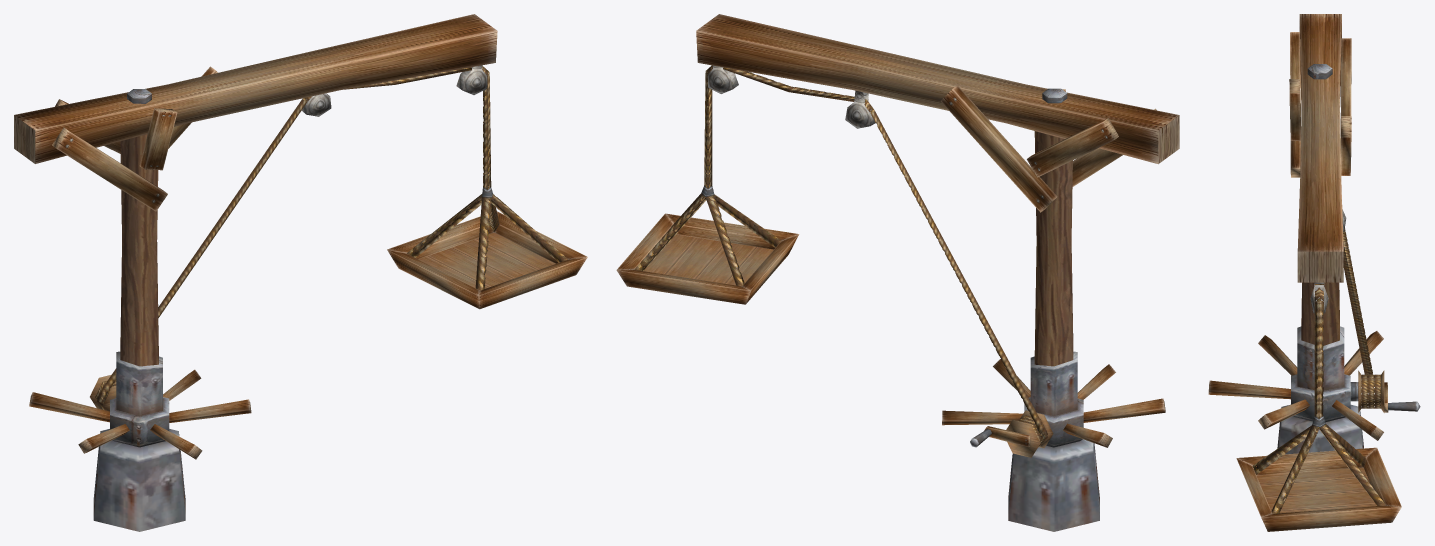
File: excavationcrane.obj
3 renders of one model, left to right at view 1: azimuth 30°, elevation 25°; view 2: azimuth 150°, elevation 25°; view 3: azimuth 270°, elevation 25°, orthographic.
Visible parts, largest first — view 1: Geoset2, Geoset7, Geoset0, Geoset5, Geoset4, Geoset3, Geoset1, Geoset6; view 2: Geoset2, Geoset7, Geoset0, Geoset4, Geoset5, Geoset3, Geoset1, Geoset6; view 3: Geoset2, Geoset5, Geoset3, Geoset7, Geoset4, Geoset1, Geoset0, Geoset6.
Boxes of the visible parts, <box> form: Geoset2: <box>14,14,587,459</box>; Geoset7: <box>93,351,185,531</box>; Geoset0: <box>120,134,158,366</box>; Geoset5: <box>95,66,567,409</box>; Geoset4: <box>52,66,217,211</box>; Geoset3: <box>90,232,555,411</box>; Geoset1: <box>110,89,492,447</box>; Geoset6: <box>302,65,487,116</box>; Geoset2: <box>616,14,1179,447</box>; Geoset7: <box>1008,351,1099,531</box>; Geoset0: <box>1034,131,1073,366</box>; Geoset4: <box>941,85,1156,446</box>; Geoset5: <box>634,65,1048,447</box>; Geoset3: <box>644,234,1053,457</box>; Geoset1: <box>701,88,1083,447</box>; Geoset6: <box>707,65,875,128</box>; Geoset2: <box>1208,14,1401,531</box>; Geoset5: <box>1252,228,1385,513</box>; Geoset3: <box>1257,370,1384,513</box>; Geoset7: <box>1277,326,1363,454</box>; Geoset4: <box>1289,32,1388,412</box>; Geoset1: <box>1291,64,1420,427</box>; Geoset0: <box>1301,282,1339,345</box>; Geoset6: <box>1310,209,1346,313</box>.
Size of the model in its own units: 8.39 by 6.32 by 2.89.
8 materials, 8 textured.
